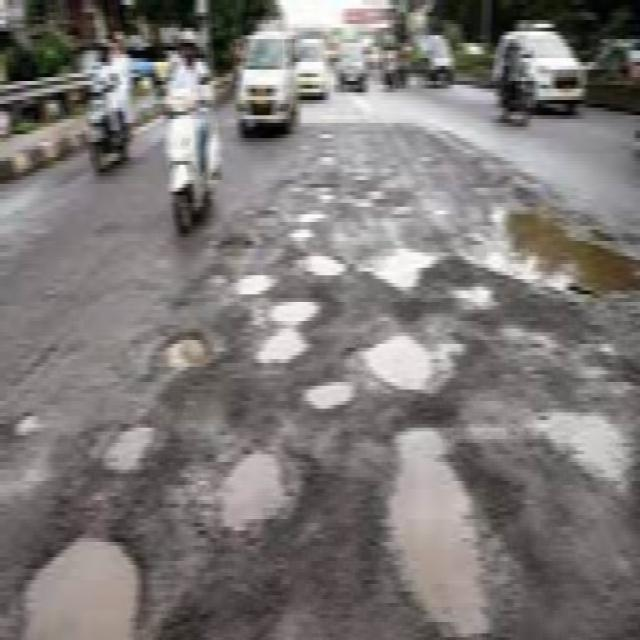Pothole: (362, 414, 515, 640), (461, 195, 639, 326), (0, 494, 158, 640), (203, 416, 316, 543), (524, 395, 640, 489), (353, 324, 448, 396), (358, 227, 456, 296), (252, 293, 332, 366), (72, 419, 173, 476), (557, 331, 640, 383), (141, 329, 213, 388), (348, 179, 431, 225), (287, 241, 355, 281), (303, 371, 359, 412), (230, 260, 274, 304), (210, 235, 274, 260), (310, 128, 344, 172), (0, 411, 44, 437), (286, 187, 344, 204), (277, 222, 319, 242), (286, 209, 329, 222)
